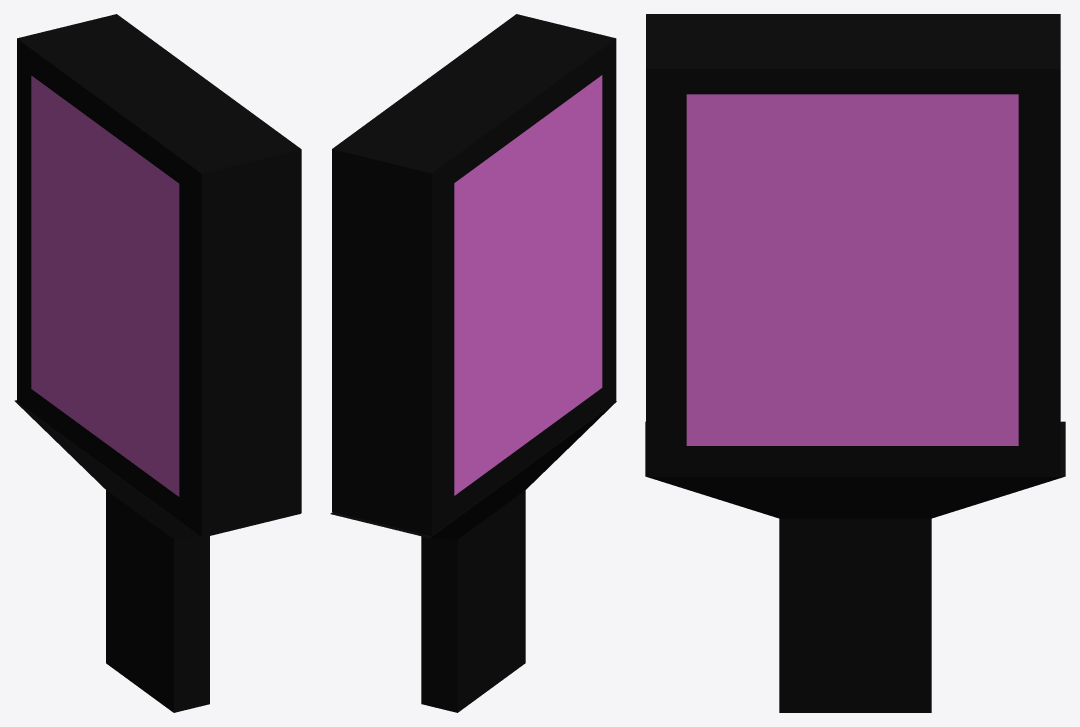
The model's file is artikelbord.fbx.
3 renders of one model, left to right at view 1: azimuth 30°, elevation 25°; view 2: azimuth 150°, elevation 25°; view 3: azimuth 270°, elevation 25°, orthographic. The views are drawn at different scales.
Parts seen in each view (by area): view 1: Cube.001, Plane.001, Cube; view 2: Cube.001, Plane.001, Cube; view 3: Plane, Cube.001, Cube.
Part boxes in pixels (left/top/right/bottom): Cube.001: left=17, top=14, right=301, bottom=537; Plane.001: left=31, top=75, right=179, bottom=496; Cube: left=14, top=400, right=301, bottom=712; Cube.001: left=332, top=14, right=616, bottom=536; Plane.001: left=454, top=75, right=602, bottom=495; Cube: left=330, top=401, right=616, bottom=712; Plane: left=686, top=94, right=1018, bottom=445; Cube.001: left=646, top=14, right=1060, bottom=476; Cube: left=645, top=421, right=1065, bottom=712.
Bounding box in the file's own units: 132 × 707 × 407.
